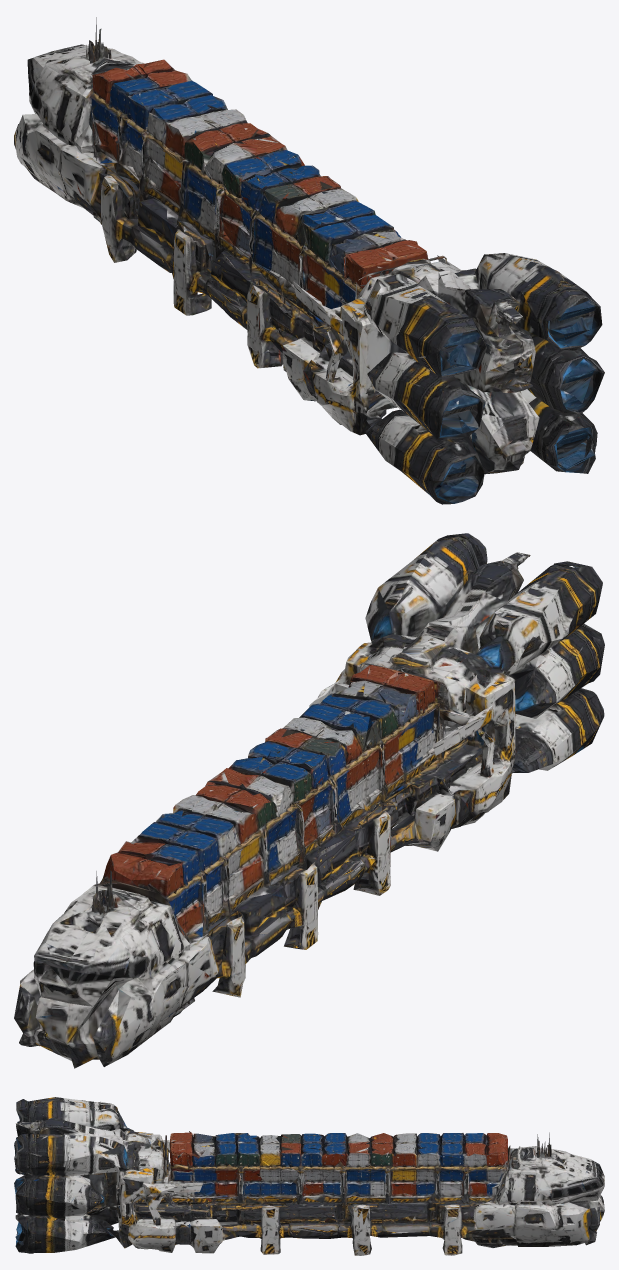
The model's file is freighter.glb.
The picture shows the model from 3 angles, top to bottom: view 1: azimuth 30°, elevation 25°; view 2: azimuth 150°, elevation 25°; view 3: azimuth 270°, elevation 25°; orthographic projection. The views are drawn at different scales.
Parts seen in each view (by area): view 1: freighter-rumpf; view 2: freighter-rumpf; view 3: freighter-rumpf.
Boxes of the visible parts, x1,y1,x2,y2 form: freighter-rumpf: (14, 17, 604, 504); freighter-rumpf: (14, 533, 604, 1068); freighter-rumpf: (14, 1097, 604, 1255).
Size of the model in its own units: 0.439 by 0.4622 by 2.
1 material, 1 textured.
